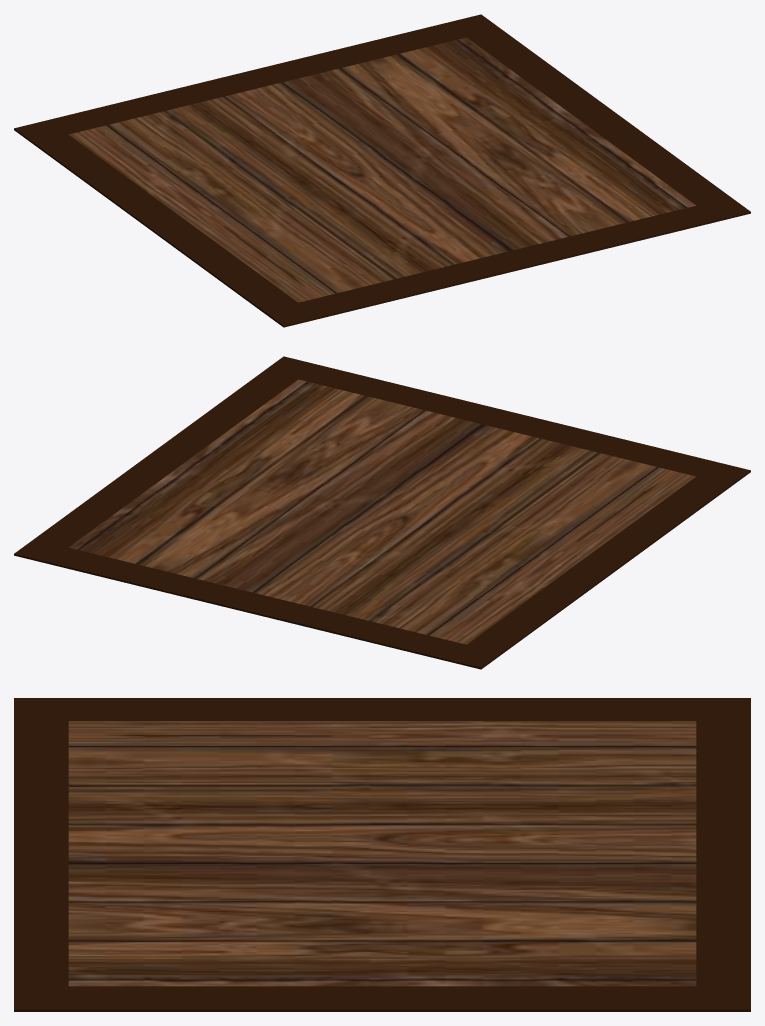
File: Plataforma.fbx
The picture shows the model from 3 angles, top to bottom: view 1: azimuth 30°, elevation 25°; view 2: azimuth 150°, elevation 25°; view 3: azimuth 270°, elevation 25°; orthographic projection. The views are drawn at different scales.
Parts seen in each view (by area): view 1: Cube; view 2: Cube; view 3: Cube.
Part boxes in pixels (<box>): Cube: <box>14,14,750,327</box>; Cube: <box>14,356,750,669</box>; Cube: <box>14,698,750,1011</box>.
Size of the model in its own units: 2700 by 10 by 2700.
Materials: 1 (1 with a texture image).
